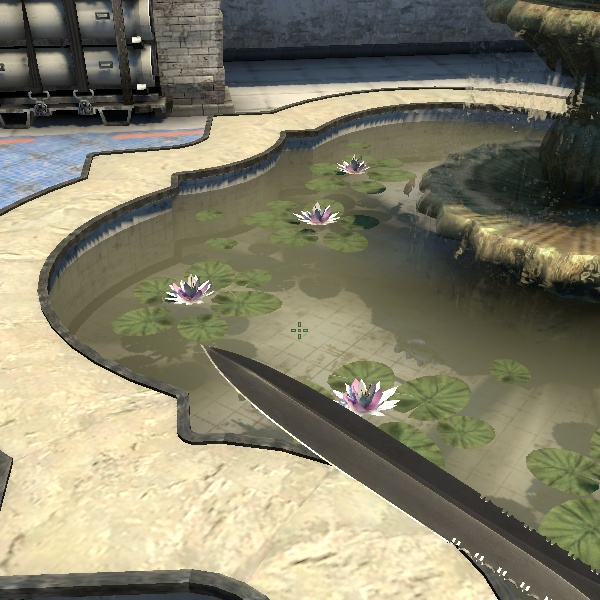ct_body: (0, 0, 600, 485)
